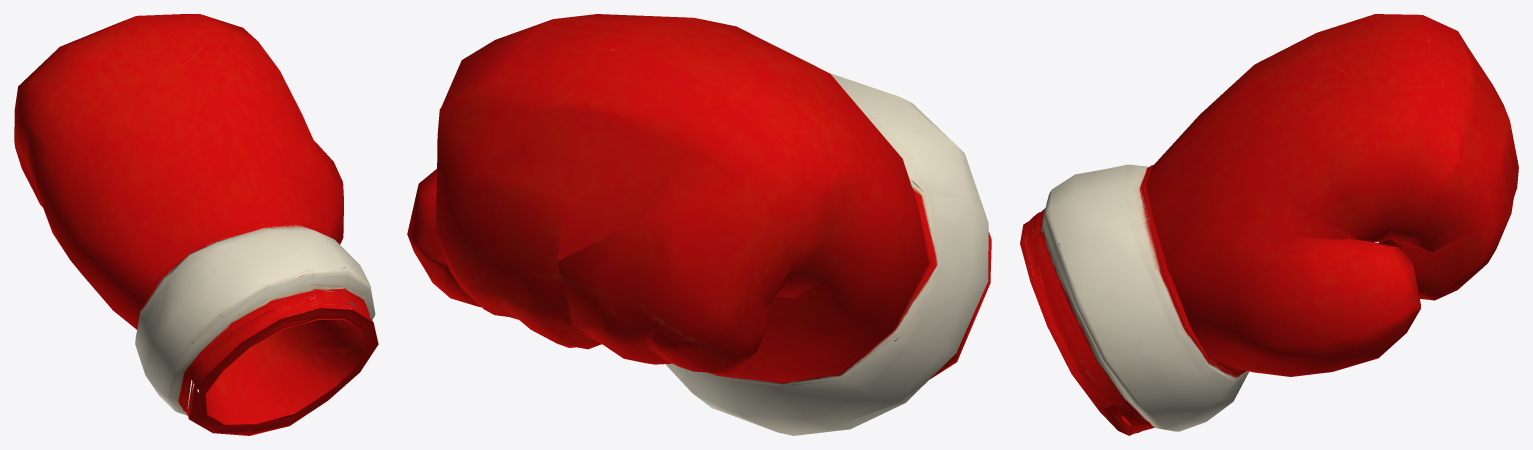
File: boxing_glove.glb
3 views of the same model, side by side, from view 1: azimuth 30°, elevation 25°; view 2: azimuth 150°, elevation 25°; view 3: azimuth 270°, elevation 25° (orthographic). The views are drawn at different scales.
Visible parts, largest first — view 1: geometry_0; view 2: geometry_0; view 3: geometry_0.
Boxes of the visible parts, x1=… form: geometry_0: x1=14, y1=14, x2=378, y2=435; geometry_0: x1=407, y1=14, x2=991, y2=435; geometry_0: x1=1020, y1=14, x2=1518, y2=435.
Size of the model in its own units: 0.7505 by 0.8057 by 0.9492.
1 material, 1 textured.
